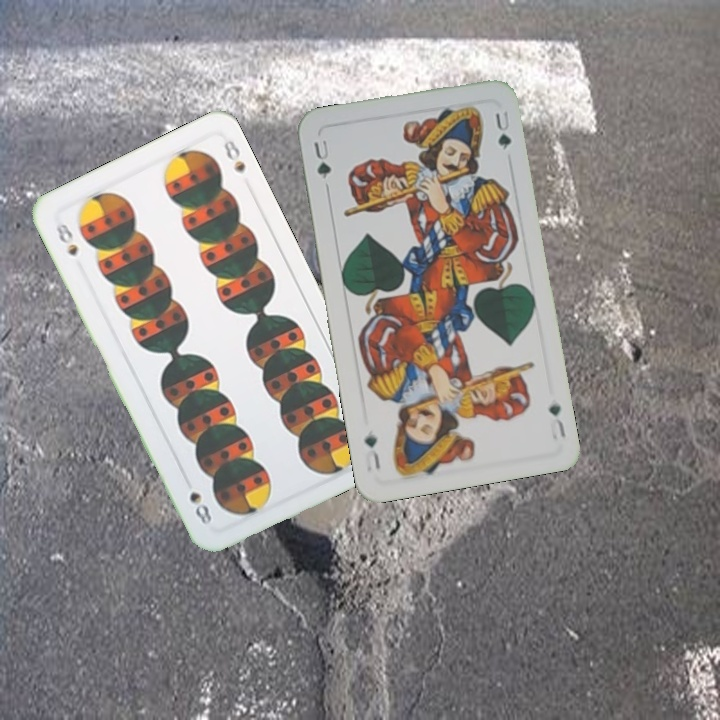GU: (309, 135, 334, 182), (545, 400, 569, 443)
S8: (52, 218, 81, 259)
